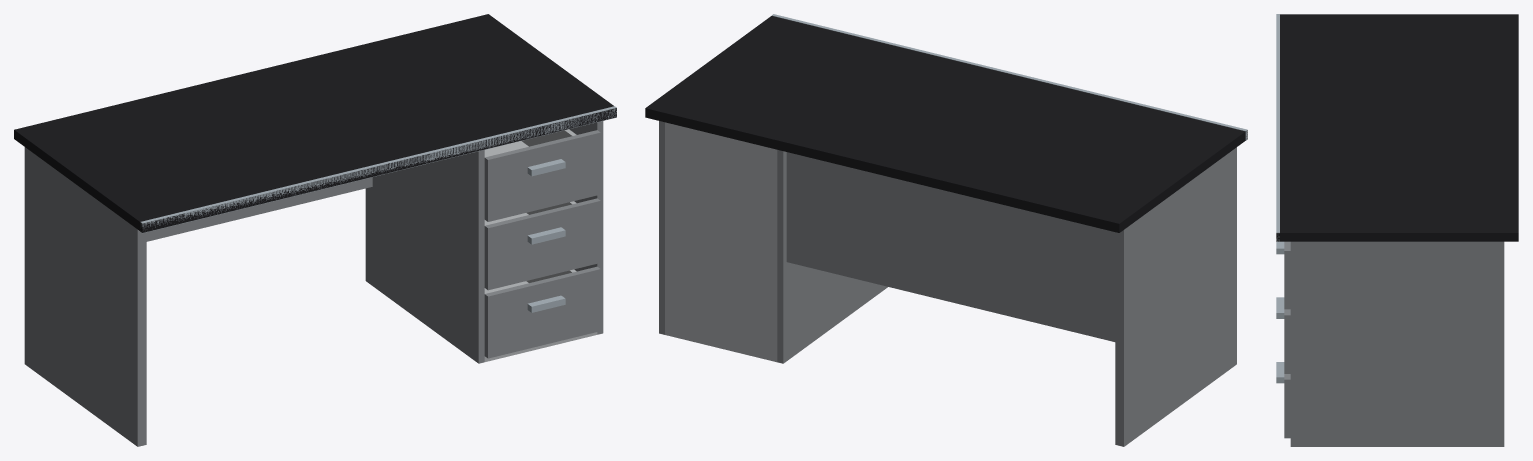
The model's file is GO_Desk_Steel_01.glb.
3 views of the same model, side by side, from view 1: azimuth 30°, elevation 25°; view 2: azimuth 150°, elevation 25°; view 3: azimuth 270°, elevation 25° (orthographic). The views are drawn at different scales.
Visible parts, largest first — view 1: GO_Desk_Steel_01, Drawer3, Drawer1, Drawer2; view 2: GO_Desk_Steel_01; view 3: GO_Desk_Steel_01, Drawer1, Drawer2, Drawer3.
Boxes of the visible parts, x1=… form: GO_Desk_Steel_01: x1=14, y1=14, x2=616, y2=446; Drawer3: x1=484, y1=129, x2=600, y2=221; Drawer1: x1=484, y1=266, x2=600, y2=358; Drawer2: x1=484, y1=198, x2=600, y2=290; GO_Desk_Steel_01: x1=645, y1=14, x2=1247, y2=446; GO_Desk_Steel_01: x1=1276, y1=14, x2=1518, y2=446; Drawer1: x1=1276, y1=362, x2=1290, y2=438; Drawer2: x1=1276, y1=297, x2=1290, y2=373; Drawer3: x1=1276, y1=241, x2=1290, y2=309.
Size of the model in its own units: 1.6 by 0.741 by 0.75.
Materials: 1 (1 with a texture image).
